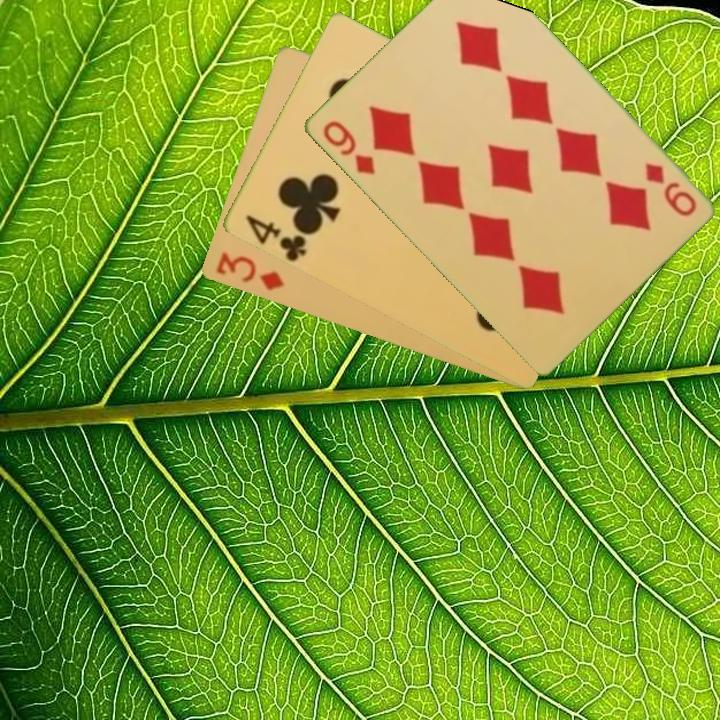3d: (212, 248, 287, 294)
4c: (241, 211, 309, 264)
9d: (319, 117, 378, 178), (640, 159, 699, 220)
